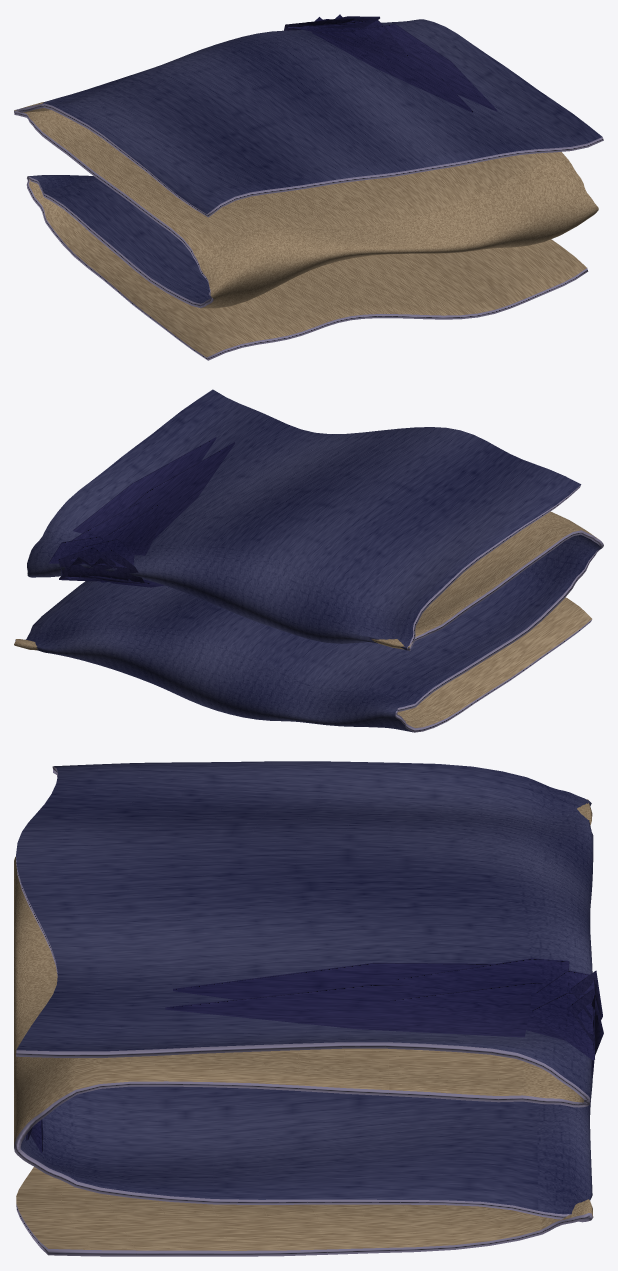
File: starhide.glb
3 renders of one model, top to bottom at view 1: azimuth 30°, elevation 25°; view 2: azimuth 150°, elevation 25°; view 3: azimuth 270°, elevation 25°, orthographic. The views are drawn at different scales.
Parts seen in each view (by area): view 1: starhide rough suede reverse, starhide supple outer surface, starhide exposed cut fibers, starhide raised polished scutes; view 2: starhide supple outer surface, starhide rough suede reverse, starhide raised polished scutes, starhide exposed cut fibers; view 3: starhide supple outer surface, starhide rough suede reverse, starhide raised polished scutes, starhide exposed cut fibers.
Part boxes in pixels (<box>): starhide rough suede reverse: <box>14,102,598,357</box>; starhide supple outer surface: <box>28,19,602,303</box>; starhide exposed cut fibers: <box>14,103,603,360</box>; starhide raised polished scutes: <box>284,14,497,112</box>; starhide supple outer surface: <box>25,389,601,732</box>; starhide rough suede reverse: <box>14,511,597,728</box>; starhide raised polished scutes: <box>49,437,234,587</box>; starhide exposed cut fibers: <box>15,485,603,732</box>; starhide supple outer surface: <box>16,761,593,1214</box>; starhide rough suede reverse: <box>14,799,593,1250</box>; starhide raised polished scutes: <box>26,958,603,1152</box>; starhide exposed cut fibers: <box>14,766,592,1256</box>.
Bounding box in the file's own units: 0.5167 × 0.2179 × 0.4494.
4 materials, 3 textured.
